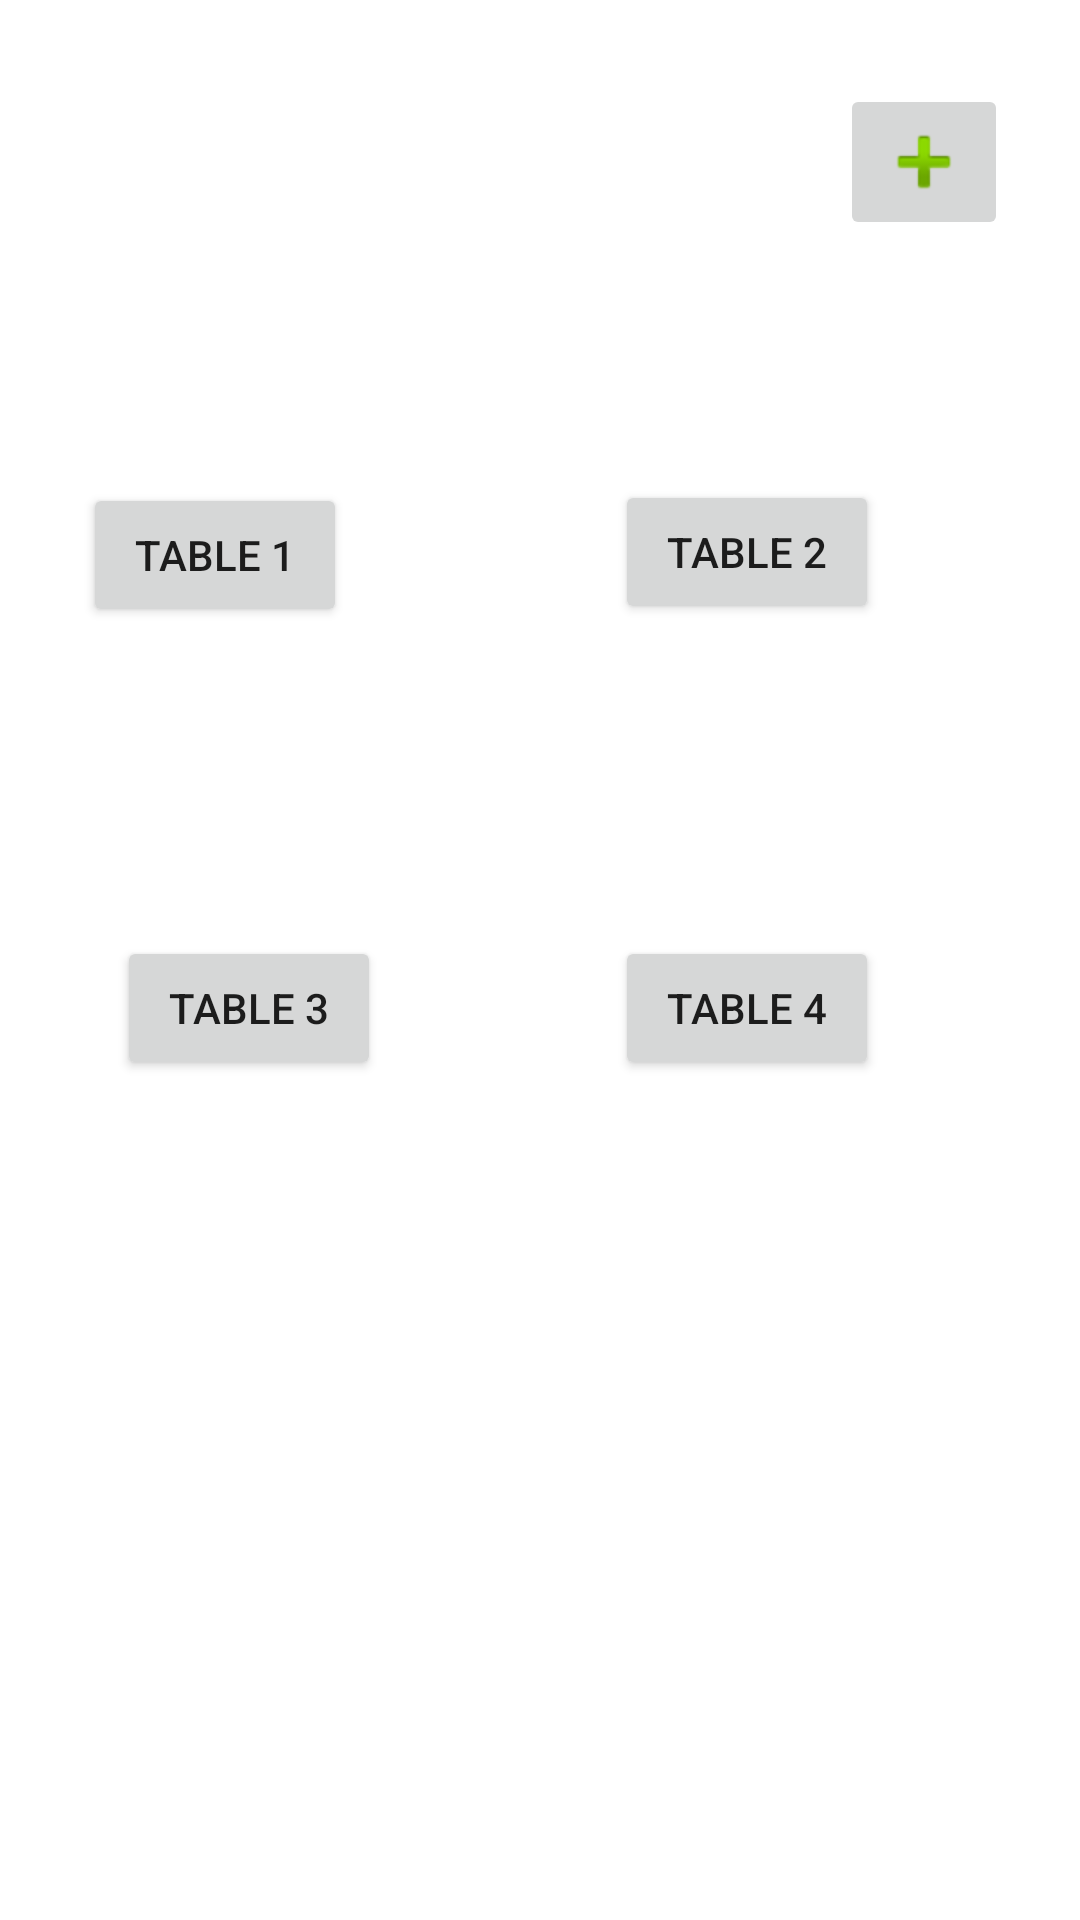

Where to tap for icons on this 1080px×1920px app screen, as (x=x, y=y):
add: (x=924, y=162)
